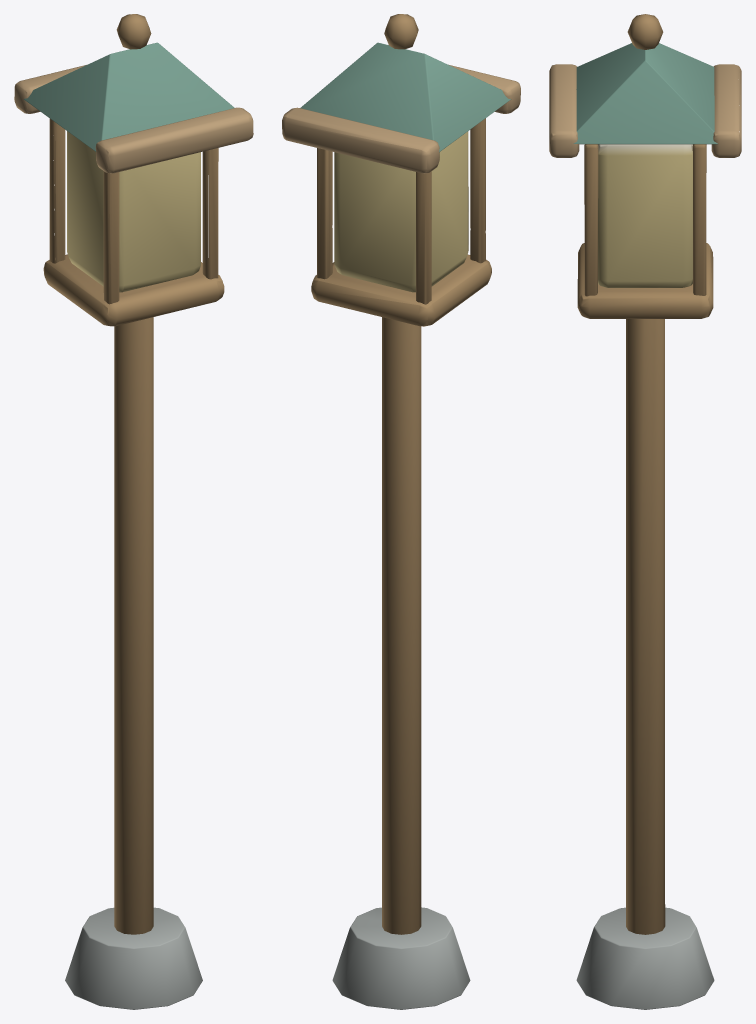
The model's file is lamp_fixed.glb.
3 views of the same model, side by side, from view 1: azimuth 30°, elevation 25°; view 2: azimuth 150°, elevation 25°; view 3: azimuth 270°, elevation 25° (orthographic).
Bounding box in the file's own units: 0.5699 × 3.55 × 0.6401.
